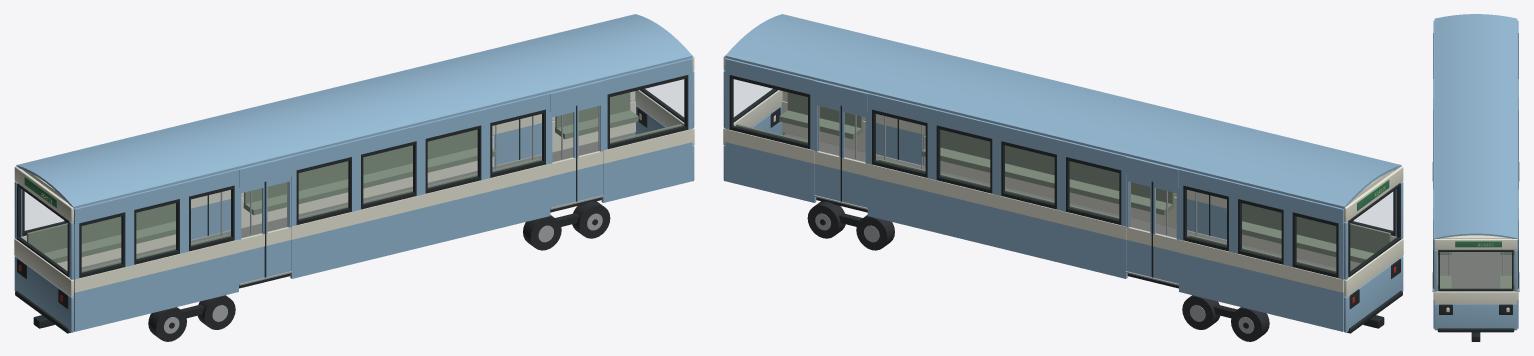
The picture shows the model from 3 angles, left to right: view 1: azimuth 30°, elevation 25°; view 2: azimuth 150°, elevation 25°; view 3: azimuth 270°, elevation 25°; orthographic projection. The views are drawn at different scales.
Visible parts, largest first — view 1: formed_roof, side_right_1_blue_sill, side_right_0_blue_sill, side_right_1_blue_lintel, side_right_1_cream_band, side_right_2_blue_sill, bench_back_left_1, side_right_0_blue_lintel, bench_seat_left_1, bench_back_left_0, side_right_0_cream_band, interior_left_1_lining (+27 smaller); view 2: formed_roof, side_left_1_blue_sill, side_left_0_blue_sill, side_left_1_blue_lintel, side_left_1_cream_band, side_left_2_blue_sill, bench_back_right_1, side_left_0_blue_lintel, bench_seat_right_1, bench_back_right_0, side_left_0_cream_band, interior_right_1_lining (+27 smaller); view 3: formed_roof, interior_floor, front_lower_blue, front_cream_band, front_header, front_bumper, front_destination, front_windshield_gasket_bottom, ceiling, side_left_1_blue_lintel, side_right_1_blue_lintel, bench_seat_left_2 (+11 smaller).
Part boxes in pixels (box(x1,y1,x2,y2)): formed_roof: box(16, 14, 692, 208); side_right_1_blue_sill: box(290, 177, 550, 278); side_right_0_blue_sill: box(74, 253, 238, 331); side_right_1_blue_lintel: box(291, 93, 550, 171); side_right_1_cream_band: box(291, 164, 550, 239); side_right_2_blue_sill: box(601, 142, 692, 202); bench_back_left_1: box(244, 129, 477, 203); side_right_0_blue_lintel: box(74, 169, 238, 224); bench_seat_left_1: box(243, 147, 496, 215); bench_back_left_0: box(27, 203, 175, 253); side_right_0_cream_band: box(74, 239, 239, 292); interior_left_1_lining: box(241, 135, 493, 228); formed_roof: box(725, 14, 1401, 208); side_left_1_blue_sill: box(867, 177, 1127, 278); side_left_0_blue_sill: box(1179, 253, 1343, 331); side_left_1_blue_lintel: box(867, 93, 1126, 171); side_left_1_cream_band: box(867, 164, 1126, 239); side_left_2_blue_sill: box(725, 142, 816, 202); bench_back_right_1: box(940, 129, 1173, 203); side_left_0_blue_lintel: box(1179, 169, 1343, 224); bench_seat_right_1: box(921, 147, 1174, 215); bench_back_right_0: box(1242, 203, 1390, 253); side_left_0_cream_band: box(1178, 239, 1343, 292); interior_right_1_lining: box(924, 135, 1176, 228); formed_roof: box(1434, 14, 1517, 238); interior_floor: box(1437, 252, 1514, 288); front_lower_blue: box(1434, 304, 1517, 330); front_cream_band: box(1434, 291, 1517, 304); front_header: box(1434, 238, 1517, 249); front_bumper: box(1437, 328, 1514, 332); front_destination: box(1455, 241, 1501, 247); front_windshield_gasket_bottom: box(1438, 288, 1513, 291); ceiling: box(1442, 235, 1509, 238); side_left_1_blue_lintel: box(1517, 97, 1518, 189); side_right_1_blue_lintel: box(1433, 97, 1434, 189); bench_seat_left_2: box(1500, 275, 1511, 288).
Size of the model in its own units: 16.36 by 4.05 by 2.67.
